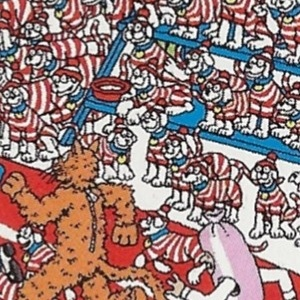Odlaw: (118, 124, 136, 176)
